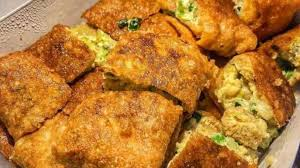Martabak telur: (107, 26, 211, 110), (73, 87, 176, 168), (1, 52, 71, 141), (219, 51, 296, 130), (167, 121, 262, 167)
